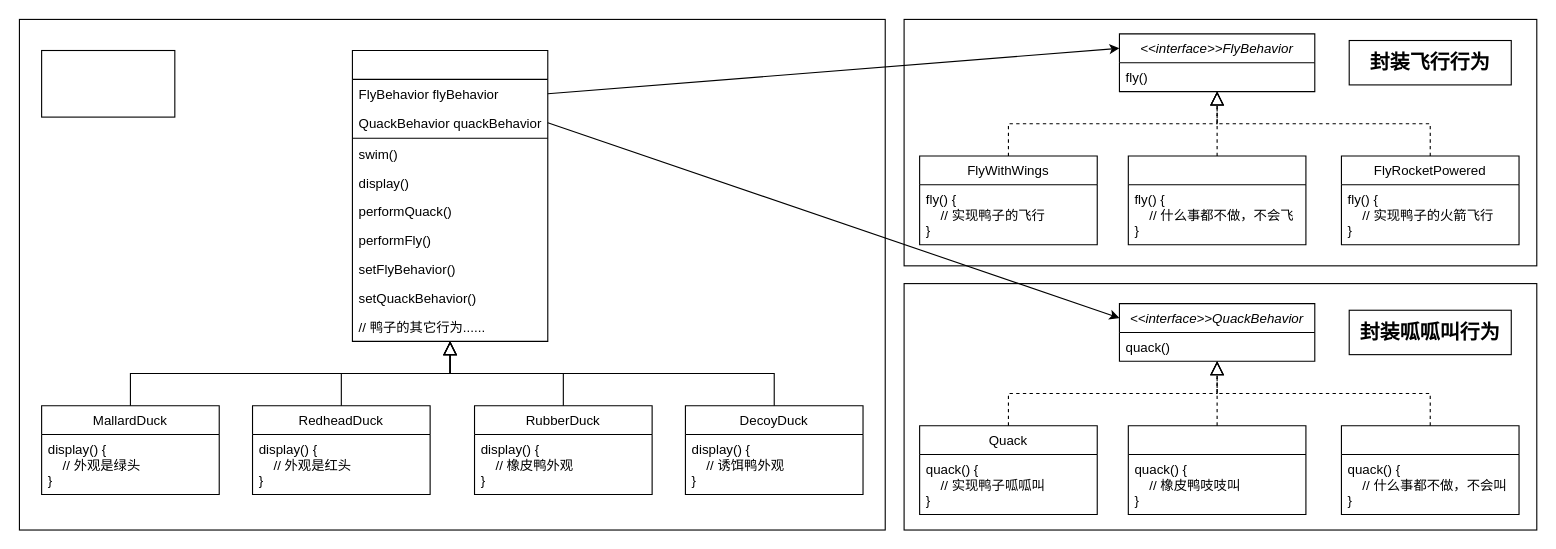
Some shapes in this 1556 by 549 pixel diagram are drawn without their labels. The box of each missing label's shape, as (x1, y1, x2, y2) in pixels:
Duck: (351, 49, 548, 341)
FlyNoWay: (1127, 155, 1306, 245)
MuteQuack: (1340, 425, 1519, 514)
Squeak: (1127, 425, 1306, 514)
客户: (41, 49, 175, 117)
